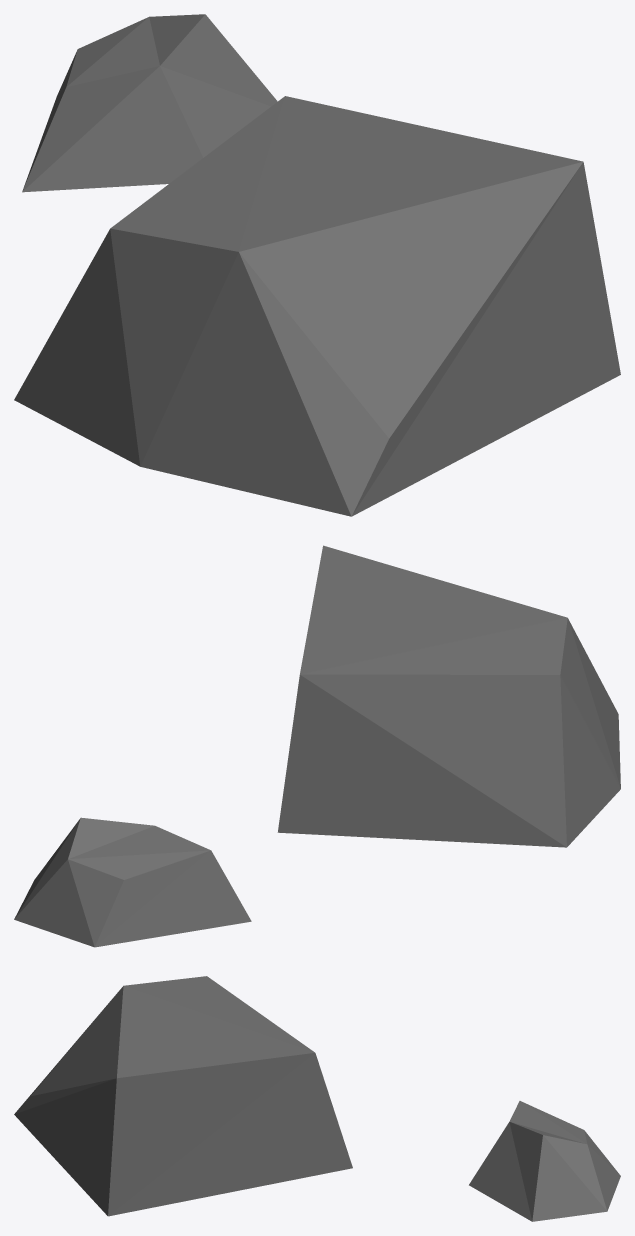
Rendered from Stone_A_21.FBX.
3 renders of one model, top to bottom at view 1: azimuth 30°, elevation 25°; view 2: azimuth 150°, elevation 25°; view 3: azimuth 270°, elevation 25°, orthographic. The views are drawn at different scales.
Visible parts, largest first — view 1: Stone_A_21; view 2: Stone_A_21; view 3: Stone_A_21.
Boxes of the visible parts, bbox=[...] form: Stone_A_21: bbox=[14, 14, 620, 516]; Stone_A_21: bbox=[14, 545, 620, 947]; Stone_A_21: bbox=[14, 976, 620, 1221].
Size of the model in its own units: 0.4335 by 0.1784 by 0.7585.
